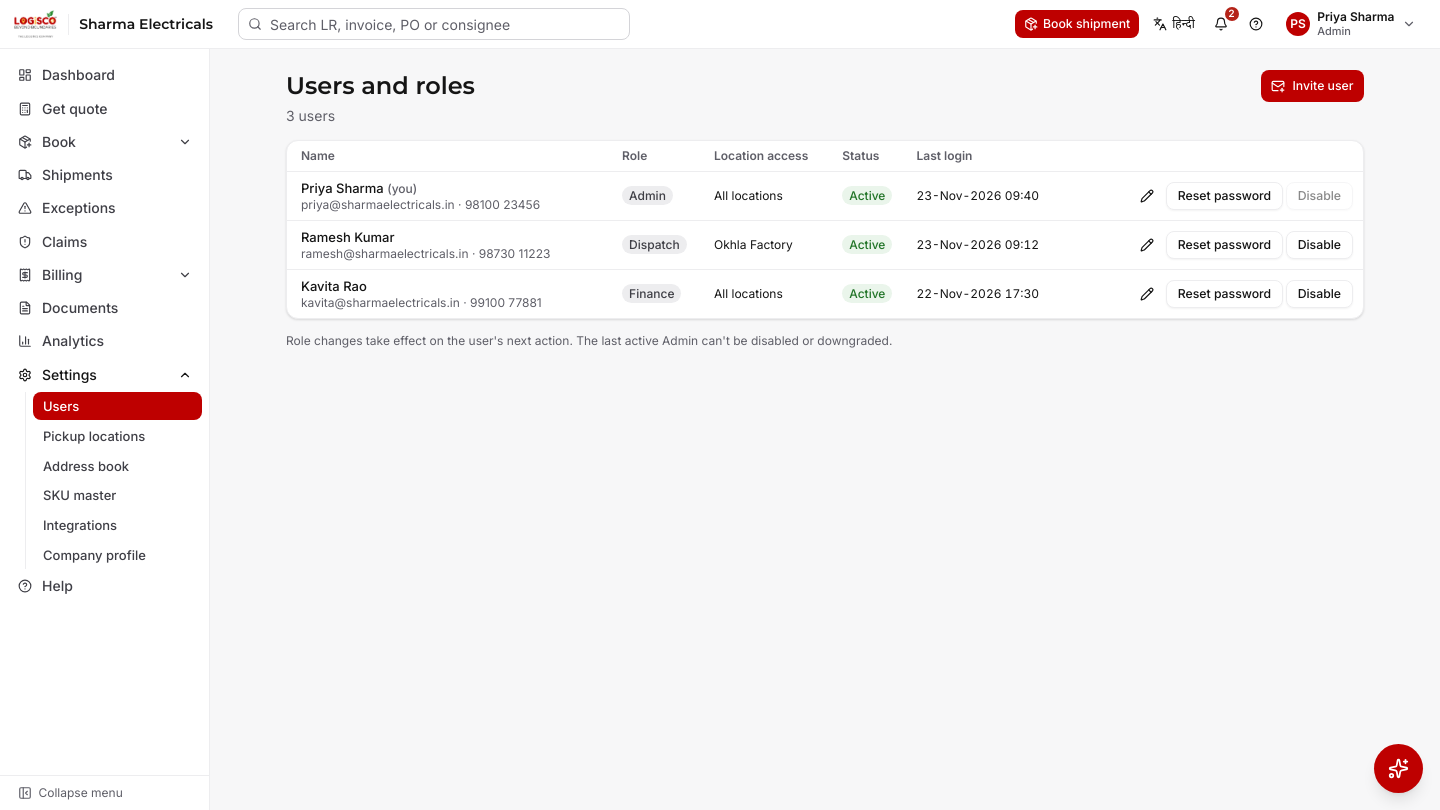
Customer settings: CP-28, CP-31, CP-32, CP-36, CP-37 › CP-28: Priya invites a user; she cannot disable herself, the last Admin
Expected: the number of rows is 4, [287,140,1363,171]; [287,171,1363,220]; [287,220,1363,269]; [287,269,1363,318]
Expected: the button "Disable" in the row of "you" is disabled, [1286,182,1352,210]
Click the button "Invite user" at (1312, 86), box [1261,70,1364,102]
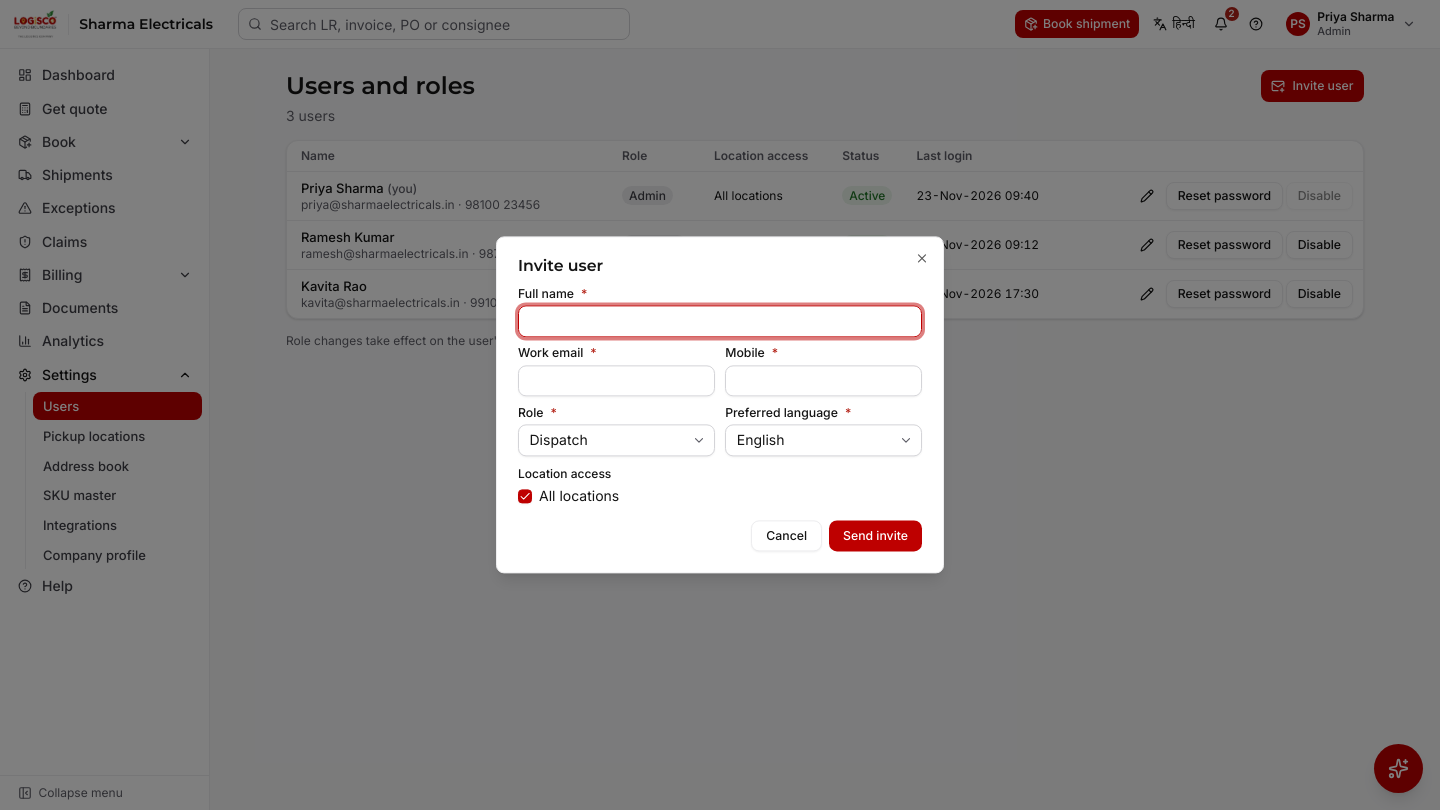
Type "Neha Jain" into the field labelled "Full name *" at (720, 321), box [518,306,922,337]
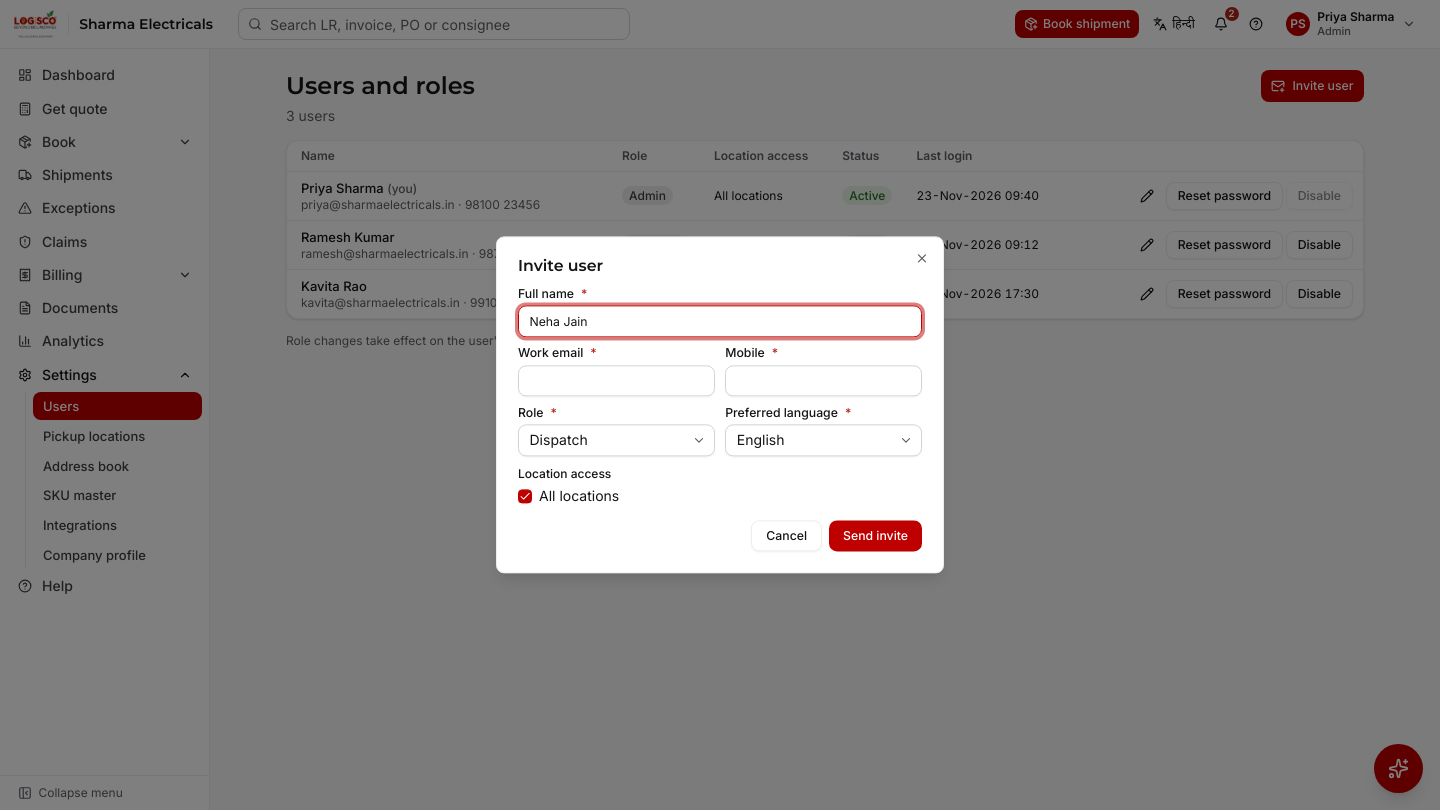
Type "neha@sharmaelectricals.in" into the field labelled "Work email *" at (616, 381), box [518,365,715,397]
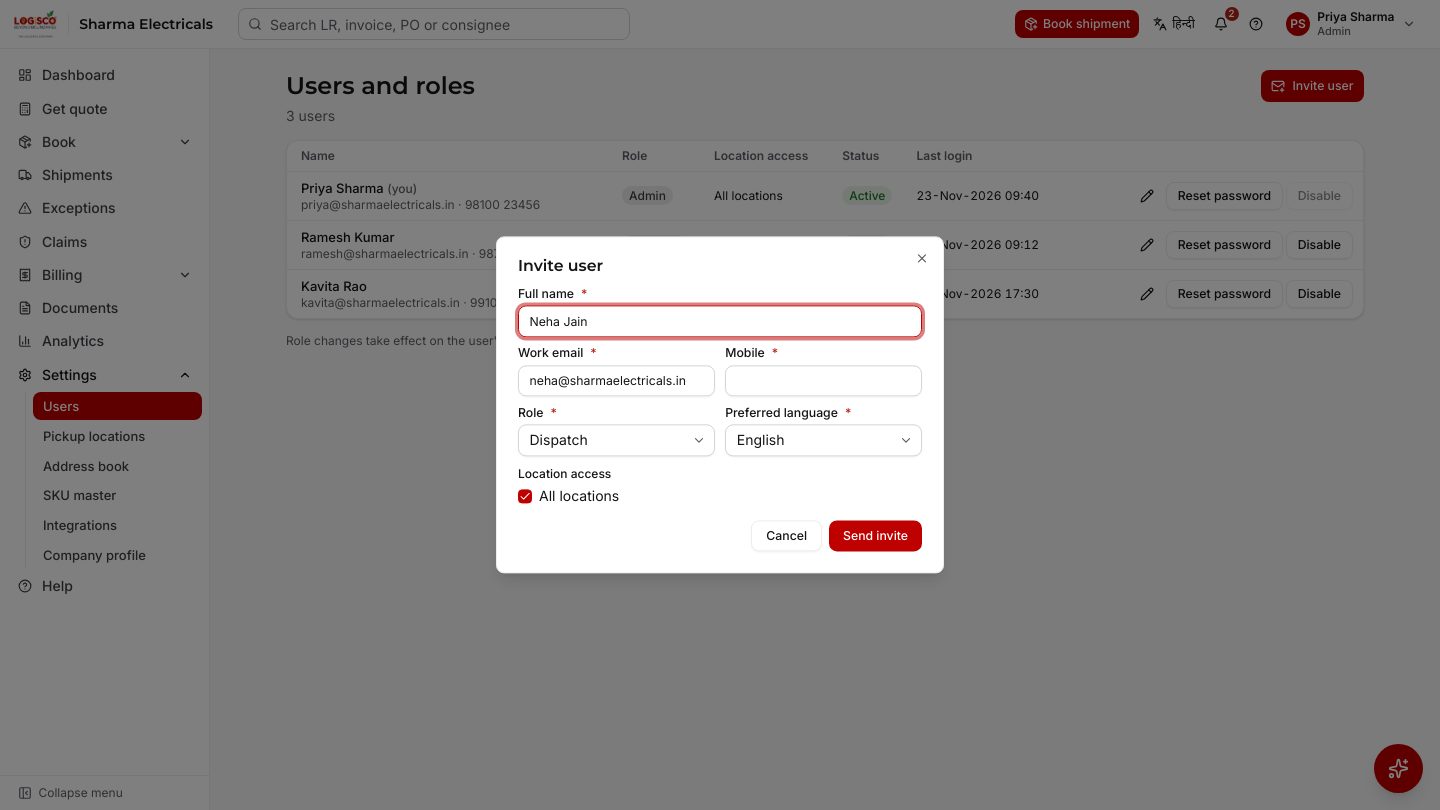
Type "98100 55667" into the field labelled "Mobile *" at (824, 381), box [725,365,922,397]
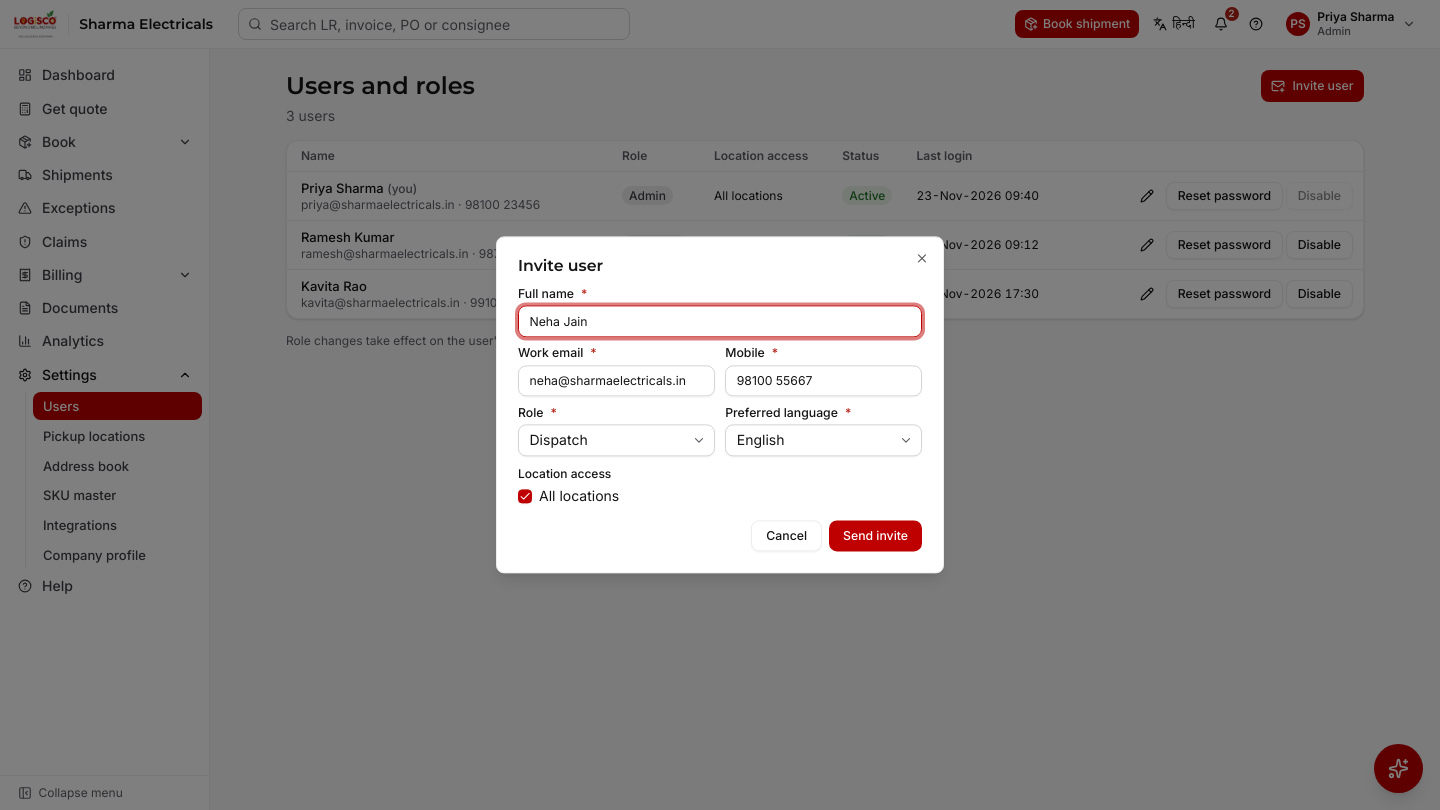
Click the button "Send invite" at (876, 536), box [829,520,922,552]
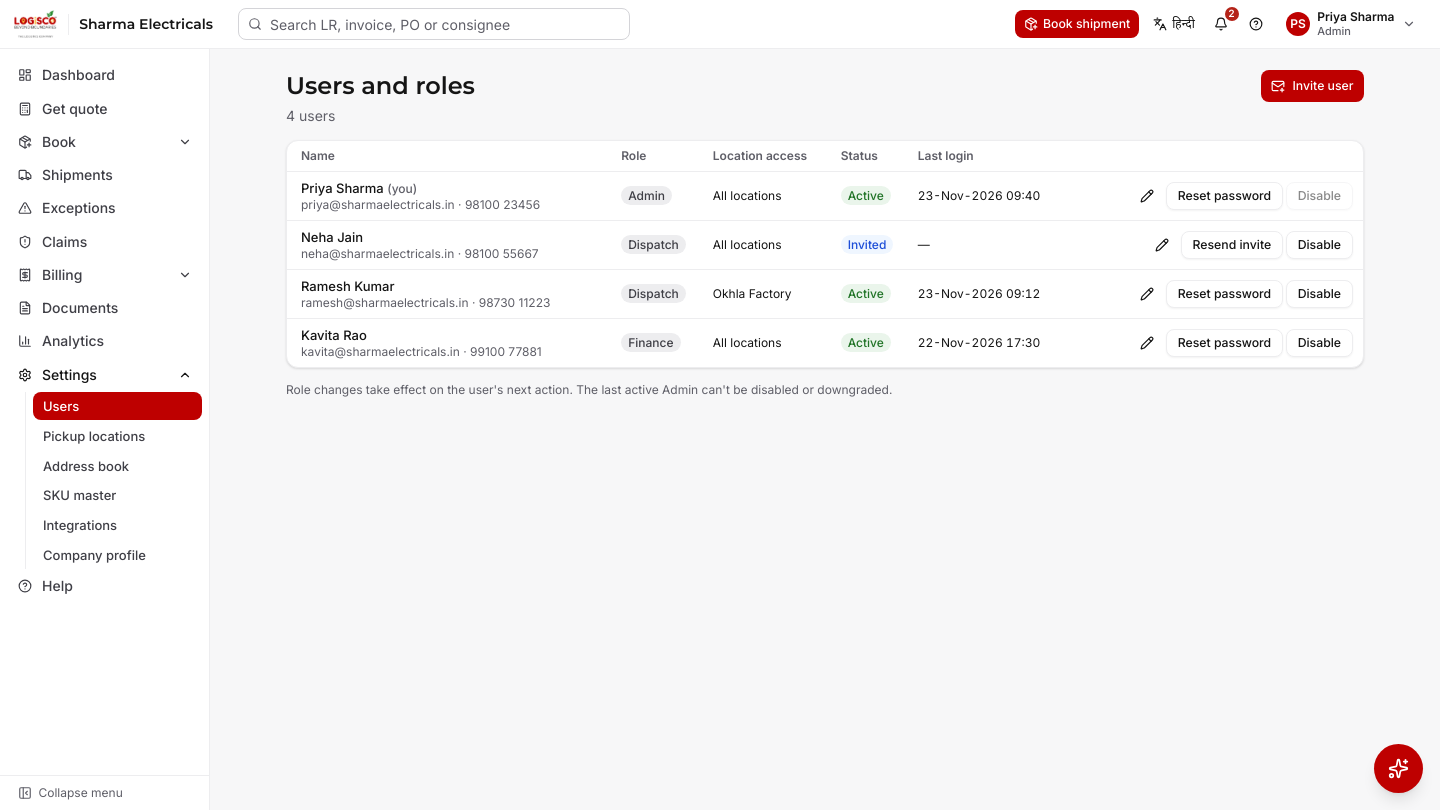
Expected: the text "Invited" is shown, [841,235,893,254]
